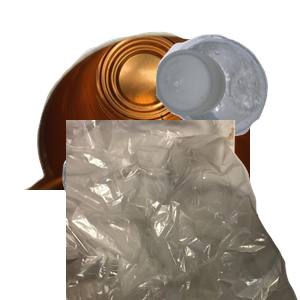glass: (60, 120, 300, 300)
metal: (21, 29, 261, 209)
plastic: (153, 31, 300, 161)
trash: (66, 120, 300, 300)
